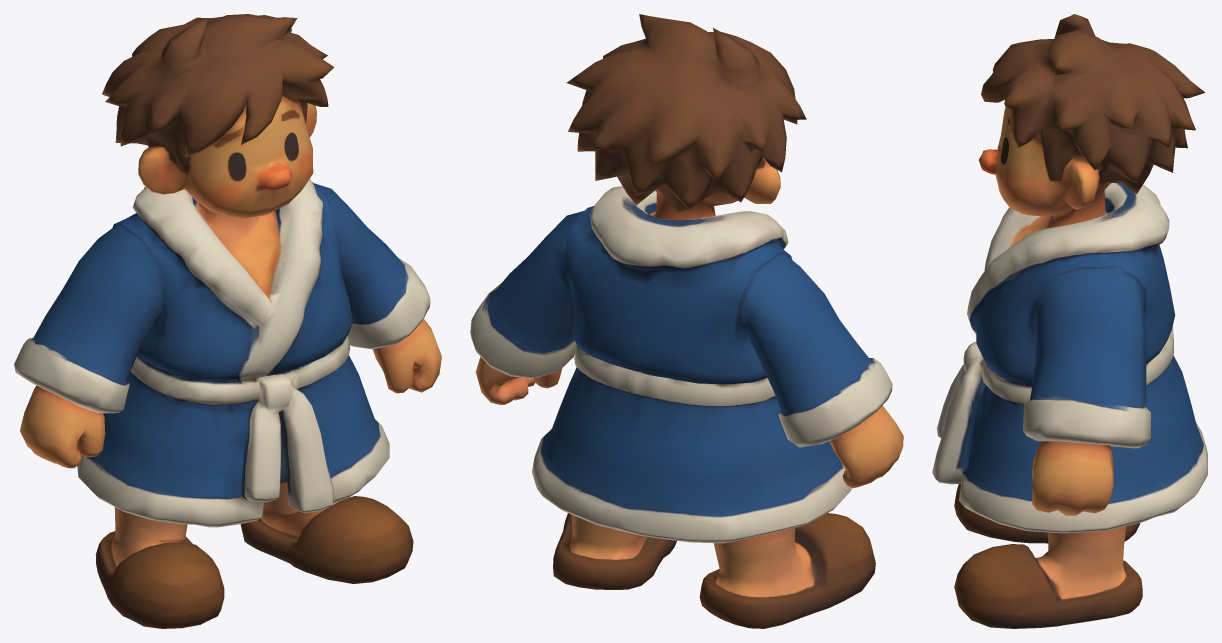
File: resident-body.glb
3 renders of one model, left to right at view 1: azimuth 30°, elevation 25°; view 2: azimuth 150°, elevation 25°; view 3: azimuth 270°, elevation 25°, orthographic. The views are drawn at different scales.
Visible parts, largest first — view 1: tripo_node_c9a2b427-d960-4bfd-b63a-9502477f83b5; view 2: tripo_node_c9a2b427-d960-4bfd-b63a-9502477f83b5; view 3: tripo_node_c9a2b427-d960-4bfd-b63a-9502477f83b5.
Part boxes in pixels (left/top/right/bottom): tripo_node_c9a2b427-d960-4bfd-b63a-9502477f83b5: left=14, top=14, right=441, bottom=628; tripo_node_c9a2b427-d960-4bfd-b63a-9502477f83b5: left=470, top=14, right=903, bottom=628; tripo_node_c9a2b427-d960-4bfd-b63a-9502477f83b5: left=932, top=14, right=1207, bottom=628.
Size of the model in its own units: 1.23 by 1.6 by 0.7421.
Materials: 1 (1 with a texture image).
